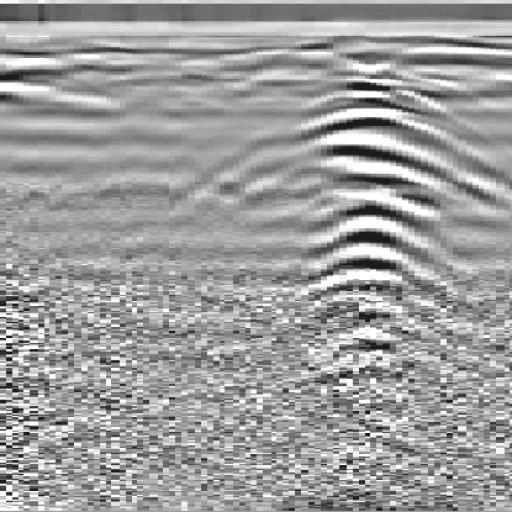metalic: (207, 46, 512, 376)
